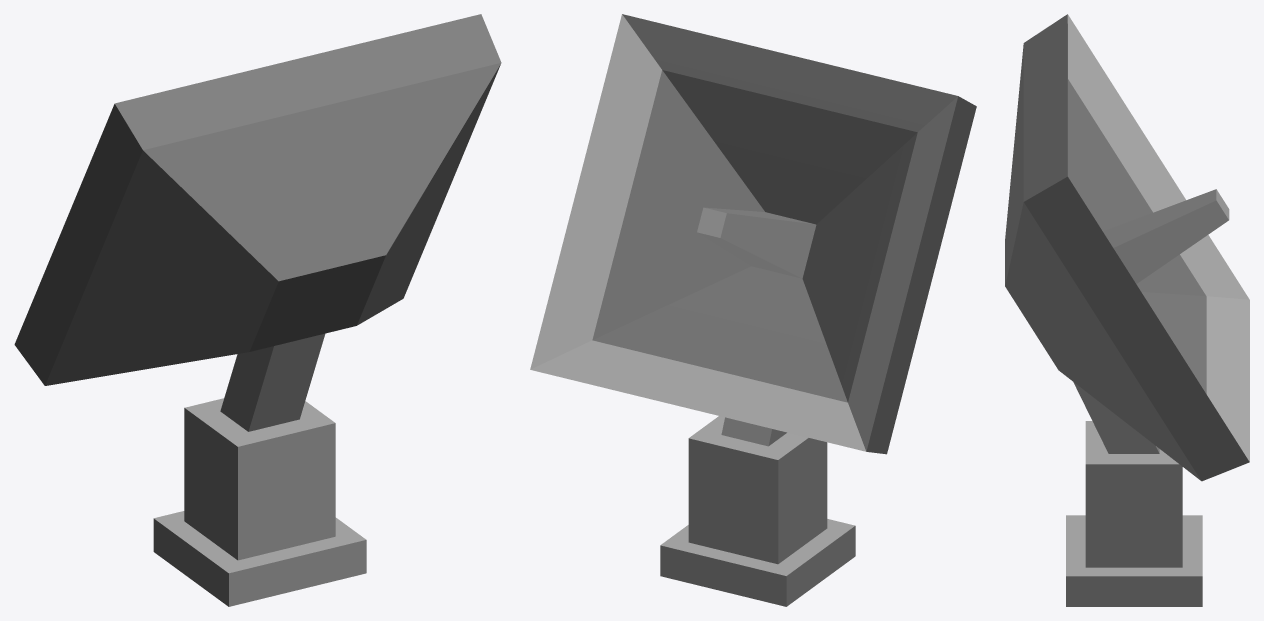
The model's file is dish_mesh.fbx.
The picture shows the model from 3 angles, left to right: view 1: azimuth 30°, elevation 25°; view 2: azimuth 150°, elevation 25°; view 3: azimuth 270°, elevation 25°; orthographic projection. The views are drawn at different scales.
Parts seen in each view (by area): view 1: dish_mesh; view 2: dish_mesh; view 3: dish_mesh.
Part boxes in pixels (bbox=[...]): dish_mesh: bbox=[14, 14, 501, 606]; dish_mesh: bbox=[530, 14, 976, 606]; dish_mesh: bbox=[1005, 14, 1249, 606].
Size of the model in its own units: 1.35 by 1.87 by 0.8616.
